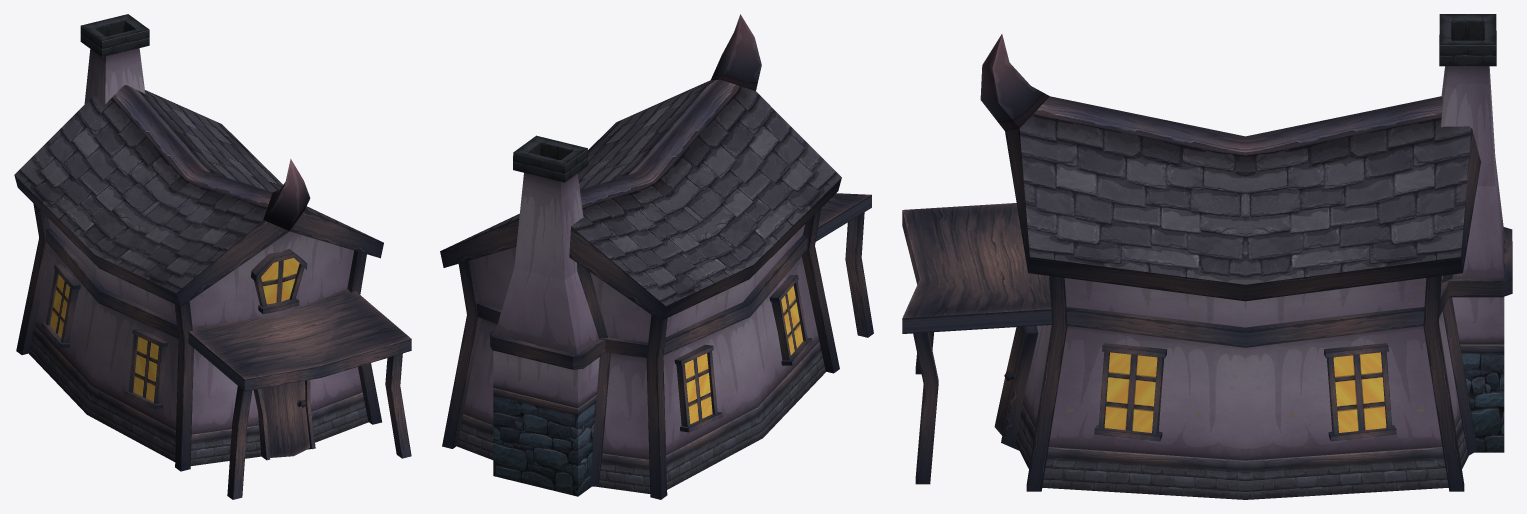
The model's file is House_B_Chimney.fbx.
The picture shows the model from 3 angles, left to right: view 1: azimuth 30°, elevation 25°; view 2: azimuth 150°, elevation 25°; view 3: azimuth 270°, elevation 25°; orthographic projection. The views are drawn at different scales.
Parts seen in each view (by area): view 1: House_B_Chimney; view 2: House_B_Chimney; view 3: House_B_Chimney.
Part boxes in pixels (x1=…): House_B_Chimney: x1=14, y1=14, x2=411, y2=499; House_B_Chimney: x1=440, y1=14, x2=873, y2=499; House_B_Chimney: x1=902, y1=14, x2=1512, y2=499.
Bounding box in the file's own units: 160 × 211 × 283.
1 material, 1 textured.
